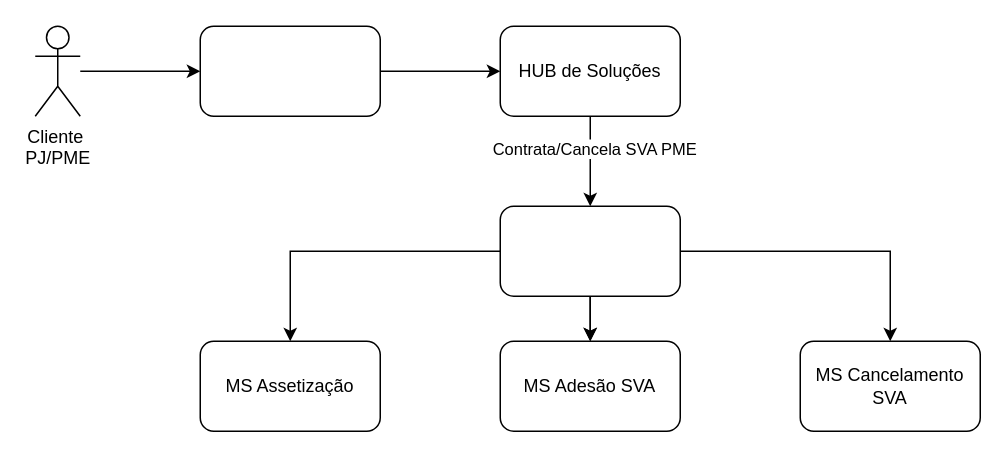
Some shapes in this 1007 by 458 pixel diagram are drawn without their labels. Each missing label, with the centre of its shape:
APIGEE: the point at 589,250
E-commerce: the point at 289,70
